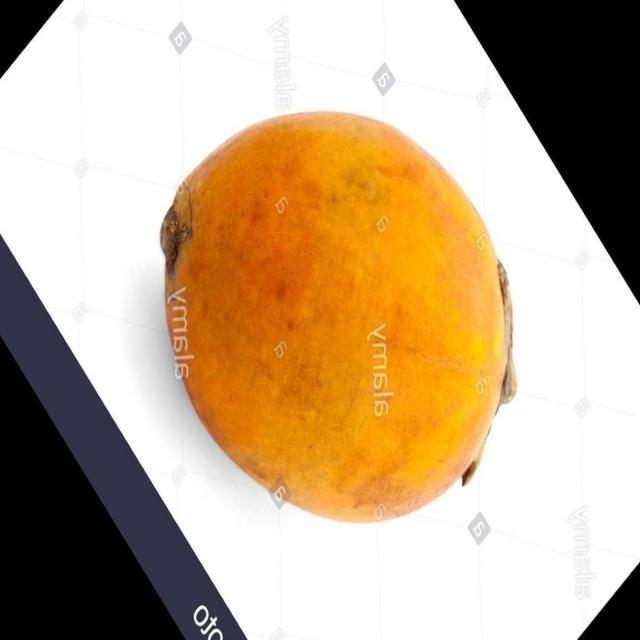good: (158, 111, 512, 526)
